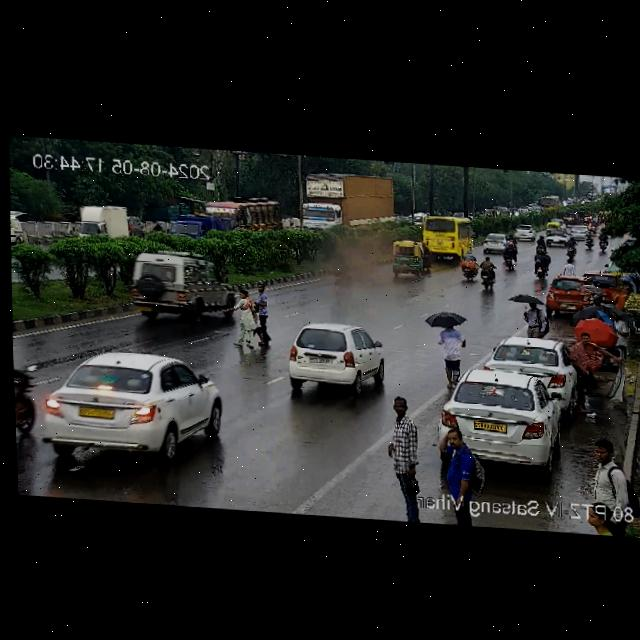bus: (208, 194, 283, 236), (415, 212, 475, 258), (535, 194, 561, 214)
car: (32, 349, 218, 465), (431, 366, 578, 469), (278, 320, 382, 393), (123, 252, 232, 320), (489, 333, 573, 399), (546, 272, 598, 316), (389, 238, 434, 279), (478, 232, 516, 254), (595, 268, 614, 305), (504, 221, 537, 241), (125, 215, 146, 240), (546, 228, 565, 247), (406, 209, 424, 224), (563, 211, 578, 225), (568, 226, 585, 238), (545, 222, 560, 231)
motorcycle: (13, 353, 42, 431), (452, 252, 477, 282), (531, 250, 553, 281), (479, 257, 499, 290), (502, 243, 518, 269), (582, 228, 595, 247), (566, 235, 576, 259), (597, 231, 607, 255), (152, 220, 165, 234), (536, 235, 546, 251), (591, 217, 597, 235), (599, 211, 606, 223), (507, 233, 515, 243), (582, 214, 589, 225)
person: (384, 393, 422, 519), (227, 279, 277, 353), (439, 428, 482, 506), (430, 320, 471, 387), (588, 436, 630, 498), (571, 327, 597, 385), (520, 298, 549, 335), (610, 310, 627, 353), (611, 282, 628, 310), (564, 258, 575, 274)
truck: (296, 170, 410, 237), (76, 201, 129, 245), (169, 209, 220, 235)
